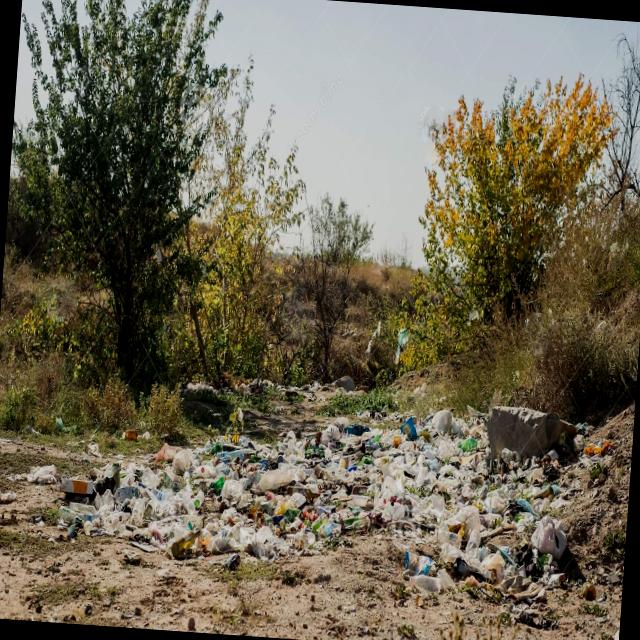garbage: (54, 340, 594, 622)
